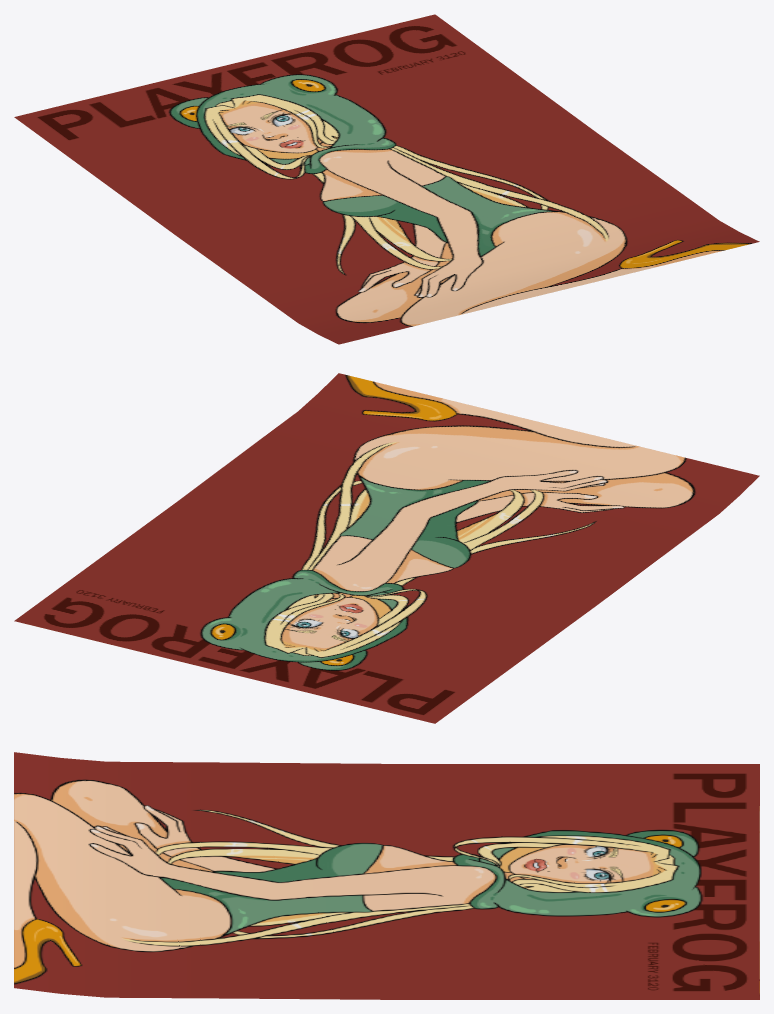
Rendered from PosterShadeSmooth.fbx.
The picture shows the model from 3 angles, top to bottom: view 1: azimuth 30°, elevation 25°; view 2: azimuth 150°, elevation 25°; view 3: azimuth 270°, elevation 25°; orthographic projection. The views are drawn at different scales.
Parts seen in each view (by area): view 1: Poster; view 2: Poster; view 3: Poster.
Part boxes in pixels (box(x1,y1,x2,y2)): Poster: box(14, 14, 759, 344); Poster: box(14, 373, 759, 723); Poster: box(14, 752, 759, 999).
Bounding box in the file's own units: 200 × 4.65 × 267.
